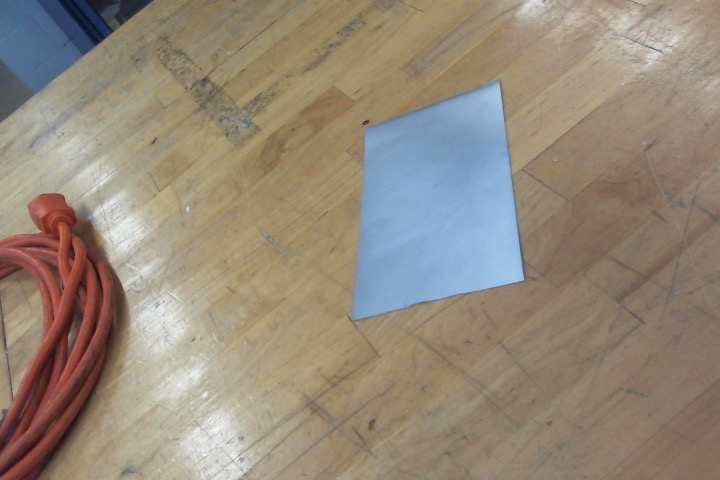Tape: (351, 79, 526, 320)
